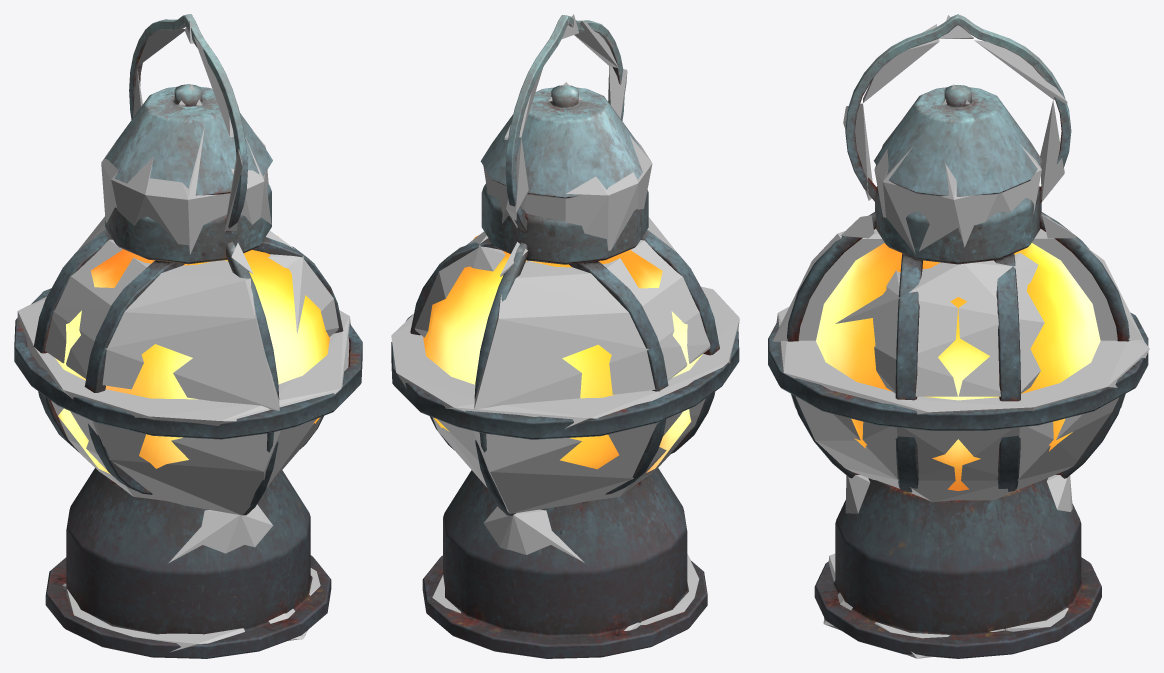
The model's file is SM_Lantern.fbx.
3 renders of one model, left to right at view 1: azimuth 30°, elevation 25°; view 2: azimuth 150°, elevation 25°; view 3: azimuth 270°, elevation 25°, orthographic.
Visible parts, largest first — view 1: SM_Lantern, SM_Lantern_ConvexHulls; view 2: SM_Lantern, SM_Lantern_ConvexHulls; view 3: SM_Lantern, SM_Lantern_ConvexHulls.
Part boxes in pixels (x1,y1,x2,y2): SM_Lantern: [14, 14, 362, 658]; SM_Lantern_ConvexHulls: [17, 21, 350, 652]; SM_Lantern: [391, 15, 739, 658]; SM_Lantern_ConvexHulls: [391, 14, 739, 630]; SM_Lantern: [768, 14, 1148, 658]; SM_Lantern_ConvexHulls: [772, 15, 1149, 658].
Size of the model in its own units: 24.64 by 28 by 47.38.
2 materials, 1 textured.
